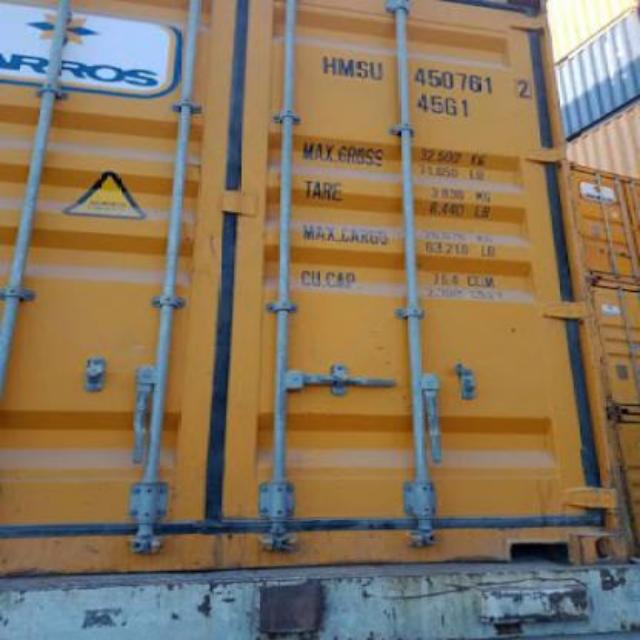0: (441, 61, 454, 93)
1: (482, 70, 498, 94)
2: (514, 74, 536, 100)
4: (412, 60, 426, 88)
5: (426, 60, 439, 90)
6: (466, 65, 479, 91)
7: (454, 65, 468, 91)
H: (322, 46, 336, 76)
M: (338, 52, 356, 78)
S: (354, 52, 370, 82)
U: (368, 57, 386, 81)
